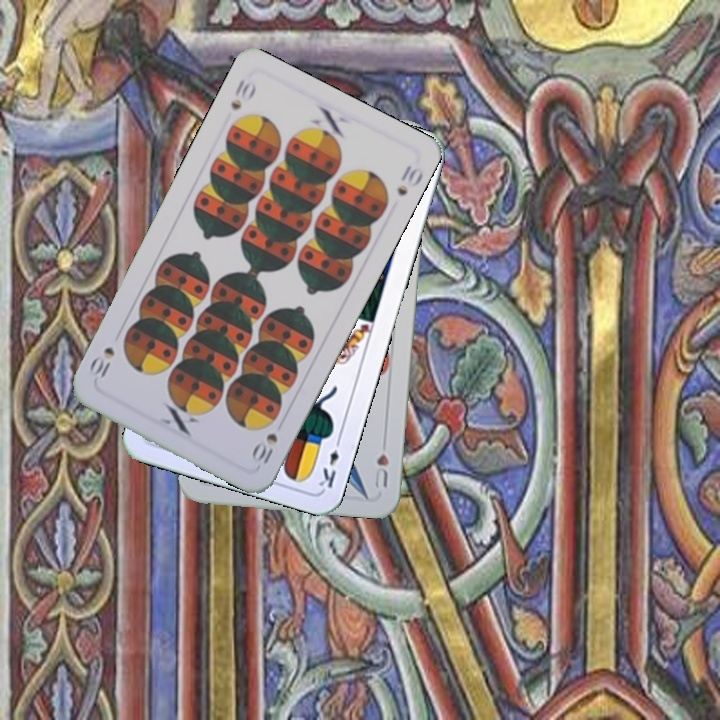EK: (314, 432, 344, 491)
HU: (370, 449, 391, 491)
S10: (247, 429, 281, 467), (226, 75, 259, 113)
